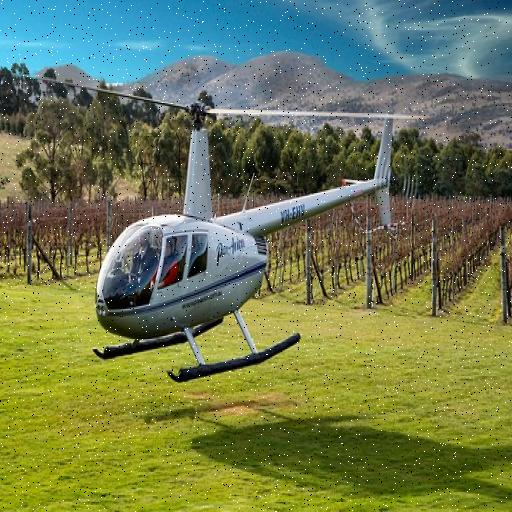helicopter: (13, 57, 429, 406)
